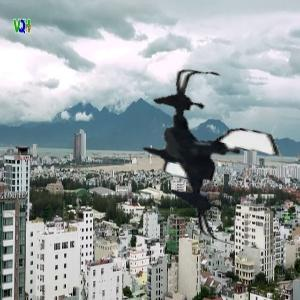drone: (123, 72, 287, 236)
